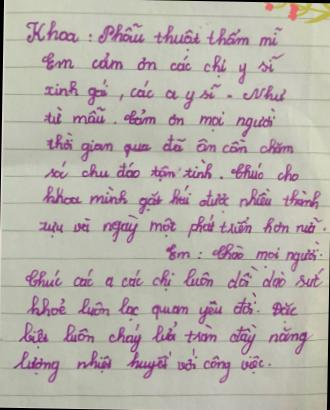text: (16, 313, 314, 358), (35, 208, 326, 249), (24, 286, 300, 327), (41, 179, 322, 219), (12, 345, 272, 388), (24, 260, 325, 296), (40, 46, 284, 87), (24, 16, 284, 54), (44, 129, 296, 166), (41, 102, 278, 140), (42, 76, 288, 111), (41, 156, 300, 186), (164, 237, 323, 272)
